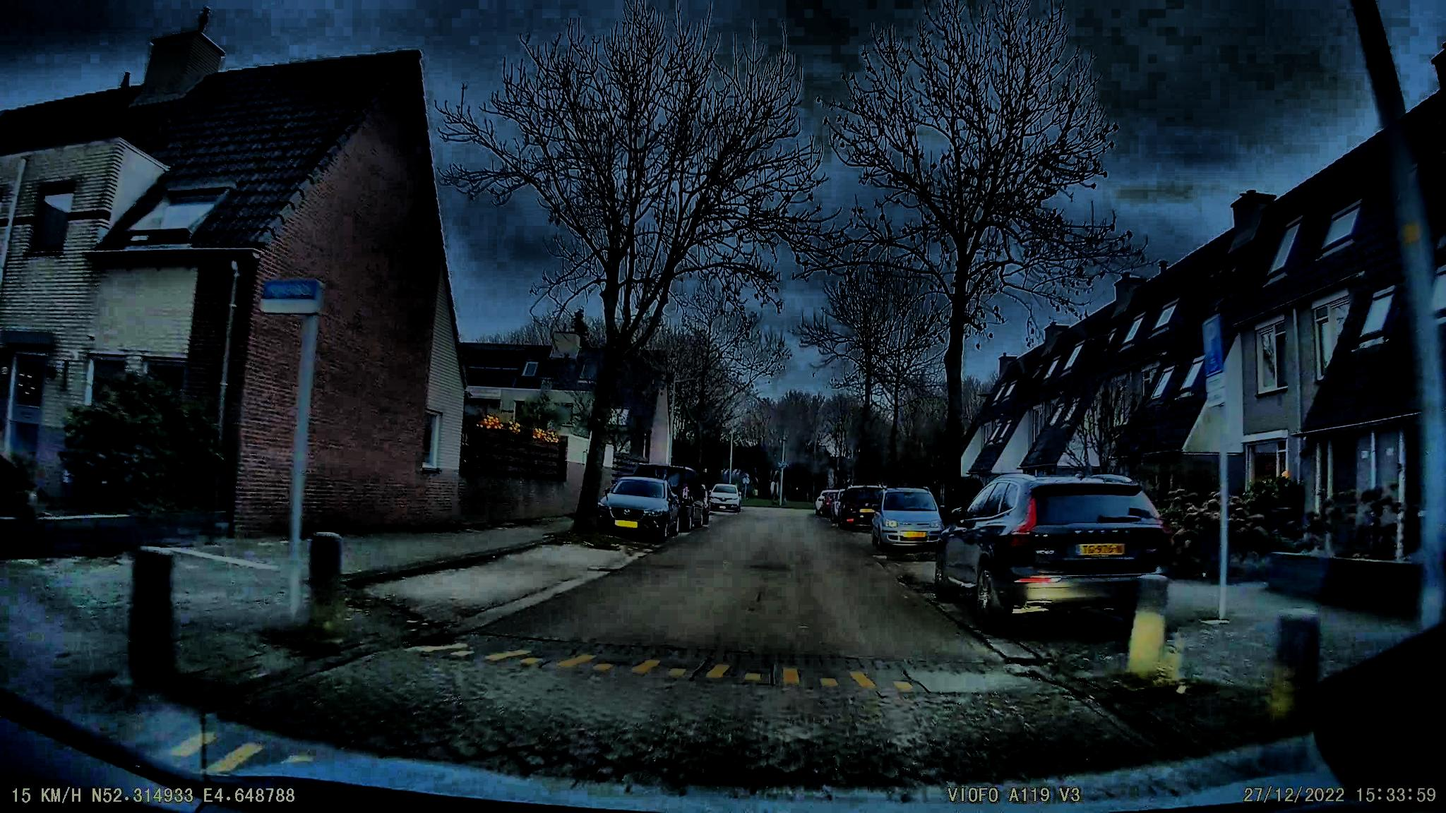Roads: (297, 507, 1151, 785)
